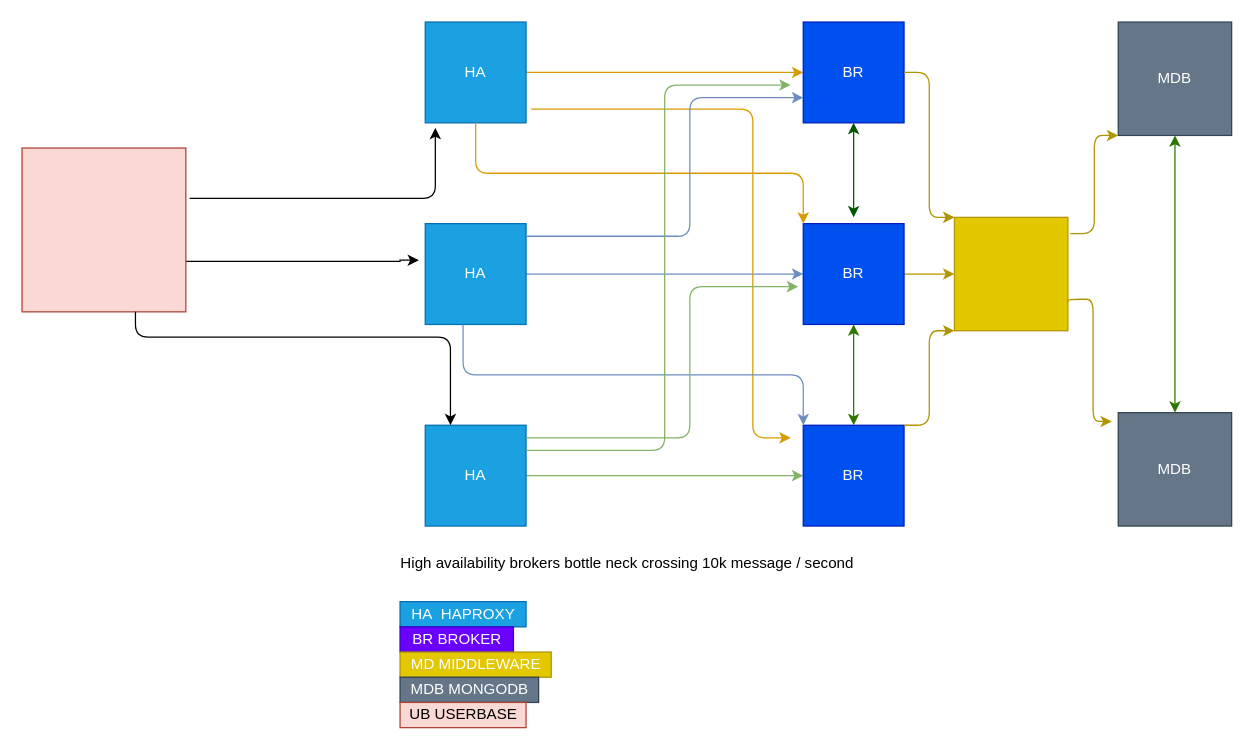
The diagram is 1254 pixels wide and 750 high, and some of its shapes have lost their labels. The centre of each missing label's shape, as x and y in pixels:
MD: pixel 1010 273
UB: pixel 103 229
